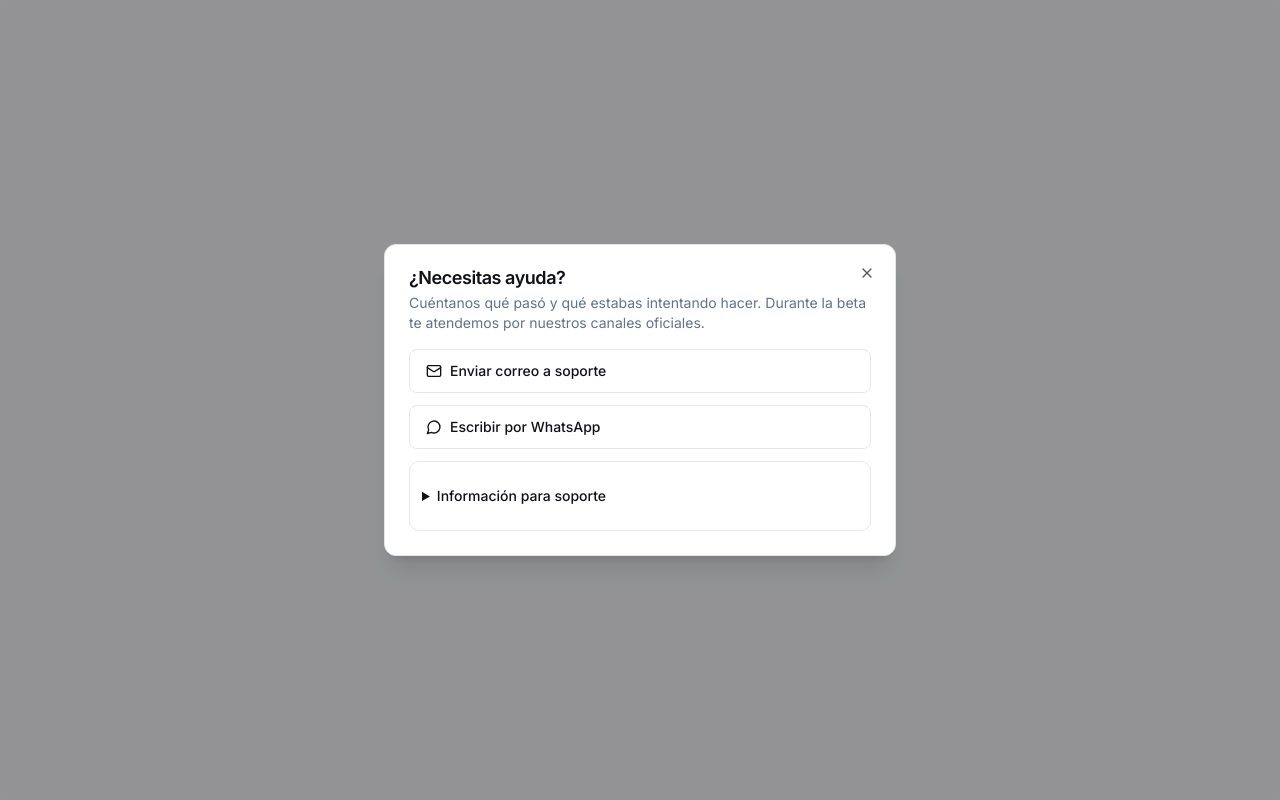
Test case: SupportDialog › does not invent a reference when no API response has supplied one
Check: the text "todavía no hay una referencia disponible" is not shown
Click the heading "Información para soporte": [521, 496] box [437,487,606,504]
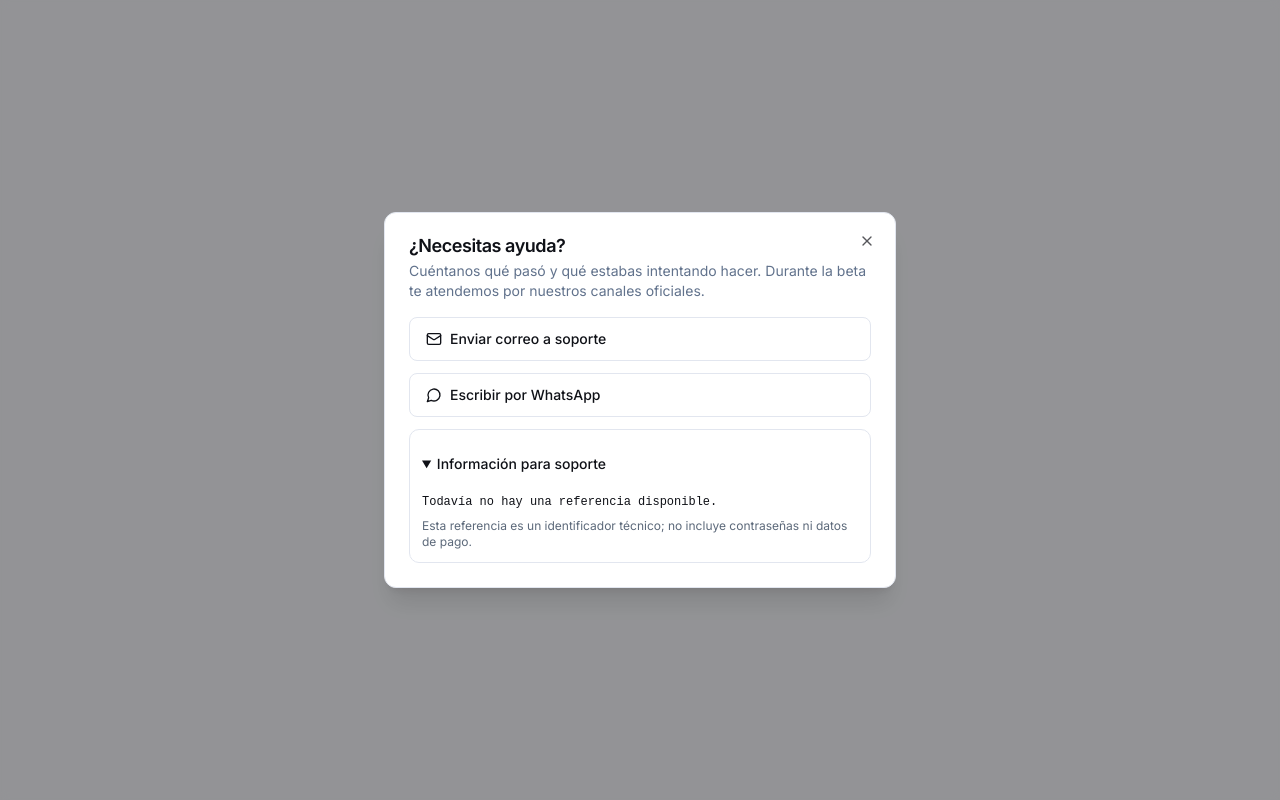
Check: the text "Todavía no hay una referencia disponible." is shown, box [422,494,717,510]
